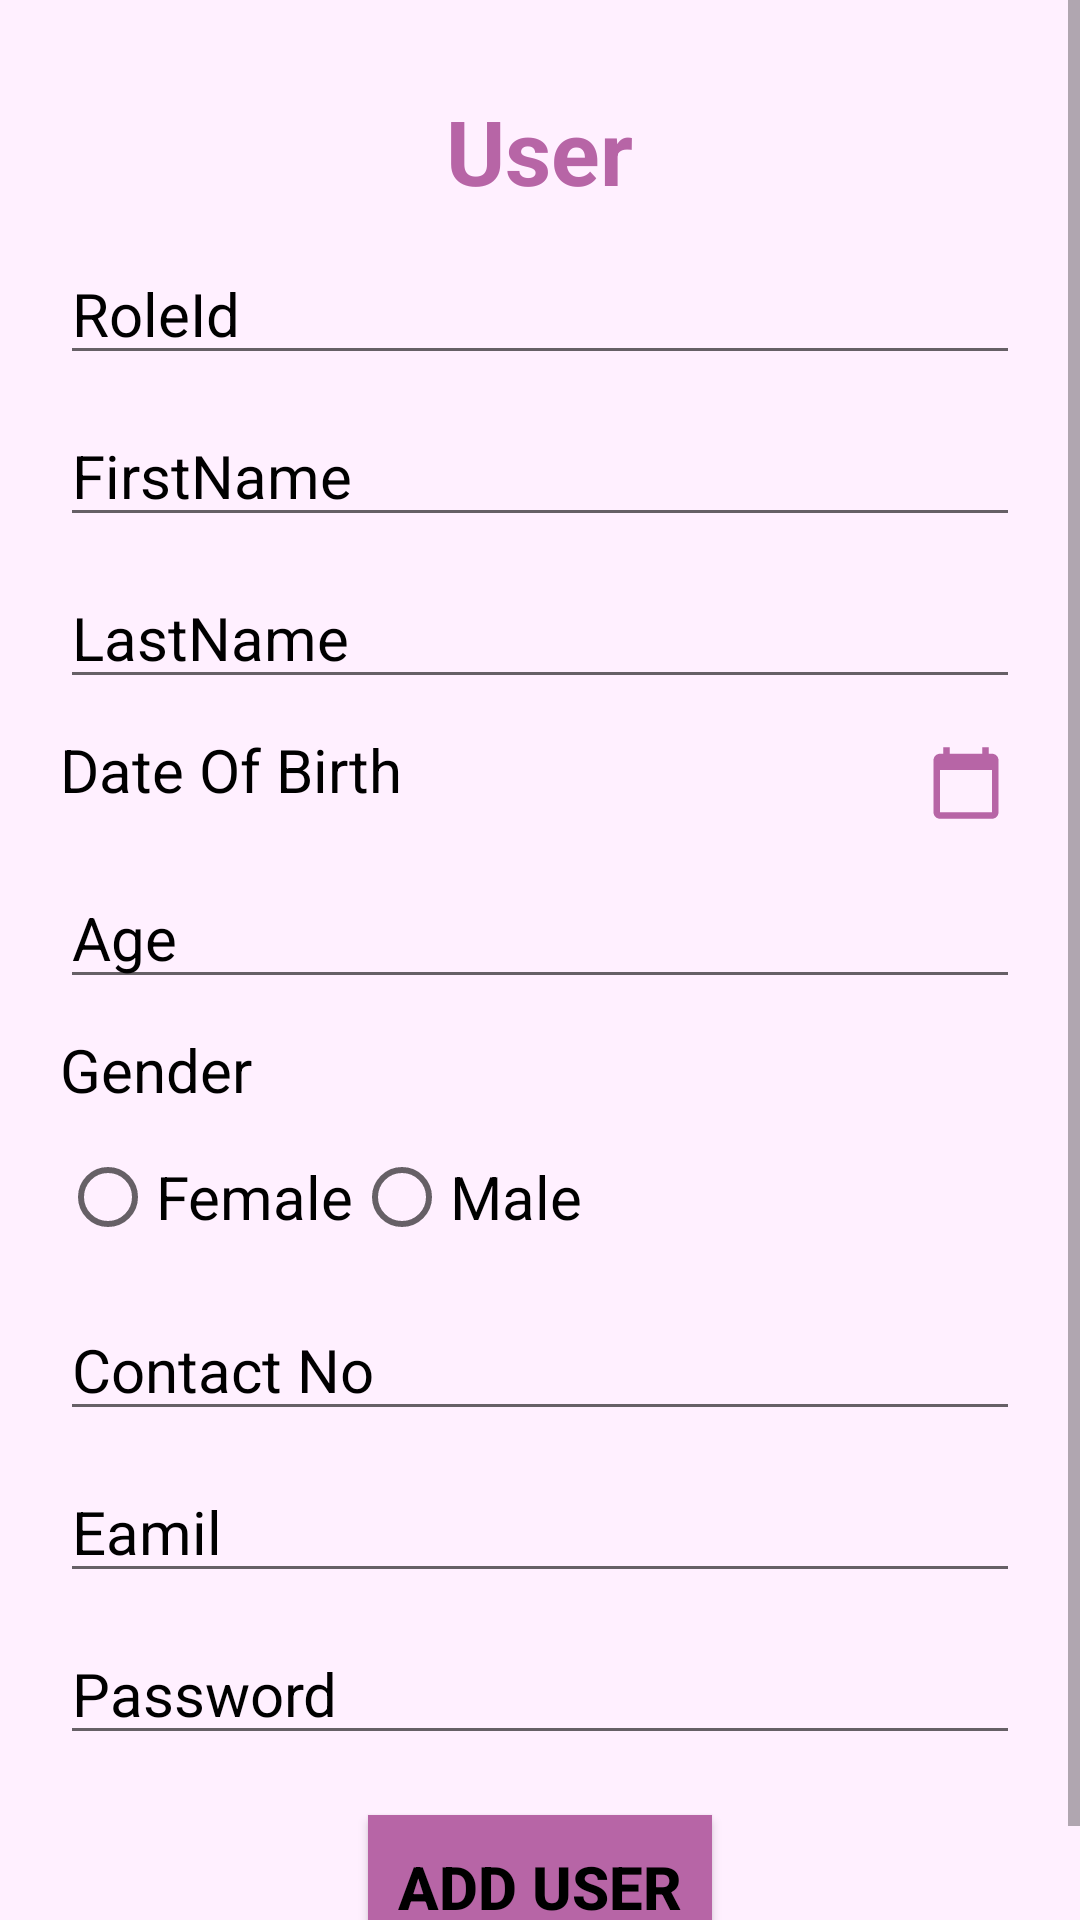

Where icons sit on this 1080px×1920px app screen, as bbox(x1, y1, x2, y2):
calendar: bbox(933, 747, 999, 819)
